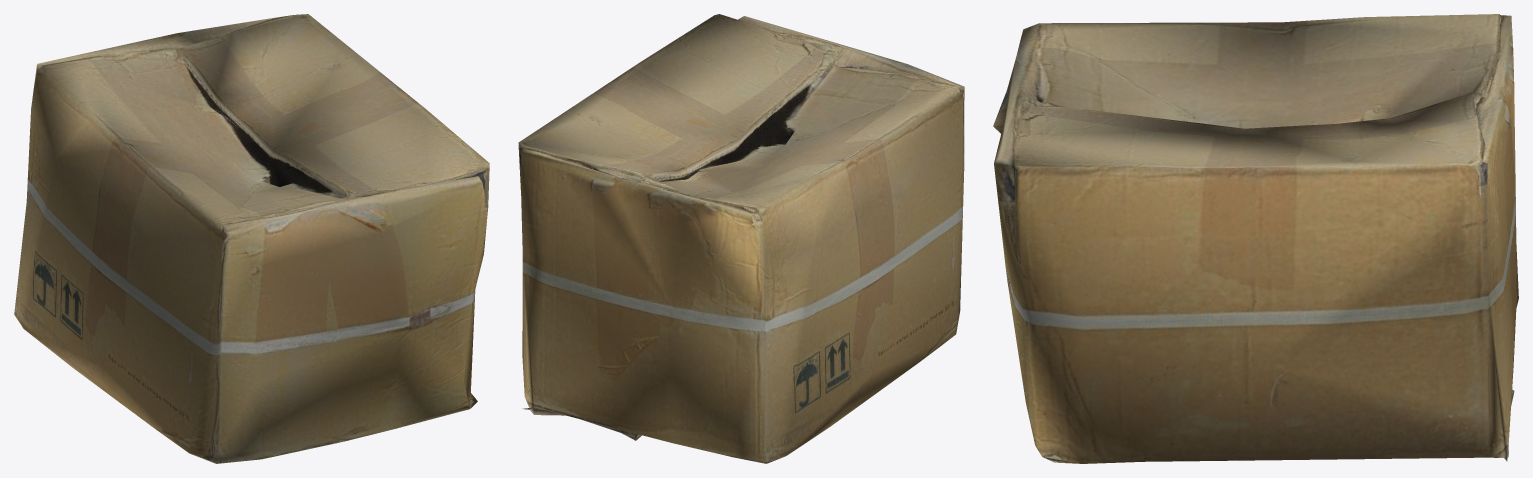
Rendered from cardboard_box_01.glb.
3 views of the same model, side by side, from view 1: azimuth 30°, elevation 25°; view 2: azimuth 150°, elevation 25°; view 3: azimuth 270°, elevation 25° (orthographic). The views are drawn at different scales.
Visible parts, largest first — view 1: cardboard_box_01; view 2: cardboard_box_01; view 3: cardboard_box_01.
Part boxes in pixels (box(x1,y1,x2,y2)): cardboard_box_01: box(14, 14, 489, 463); cardboard_box_01: box(518, 14, 964, 463); cardboard_box_01: box(993, 14, 1518, 463).
Size of the model in its own units: 0.3827 by 0.3394 by 0.5159.
1 material, 1 textured.
